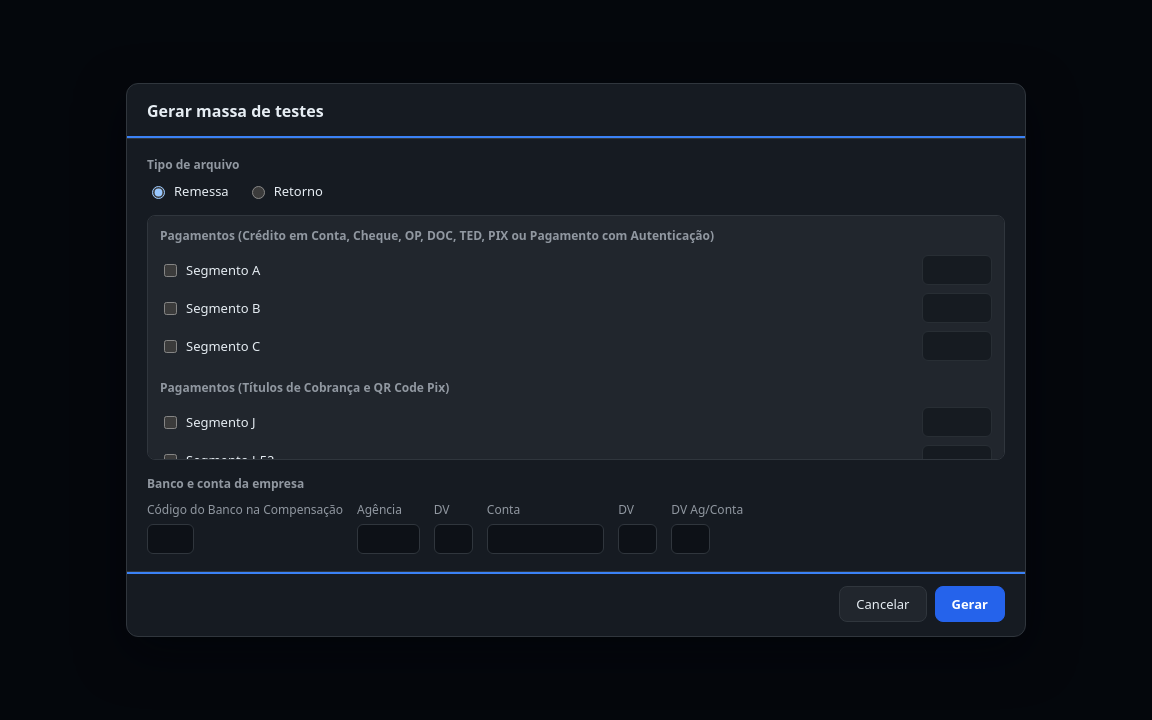
Test case: GeneratorDialog (US1) › quantidade 0 é inválida e desabilita Gerar
Click the checkbox with test id "generator-variant-segmento-a-pagamento" at [170, 270], box [164,264,177,277]
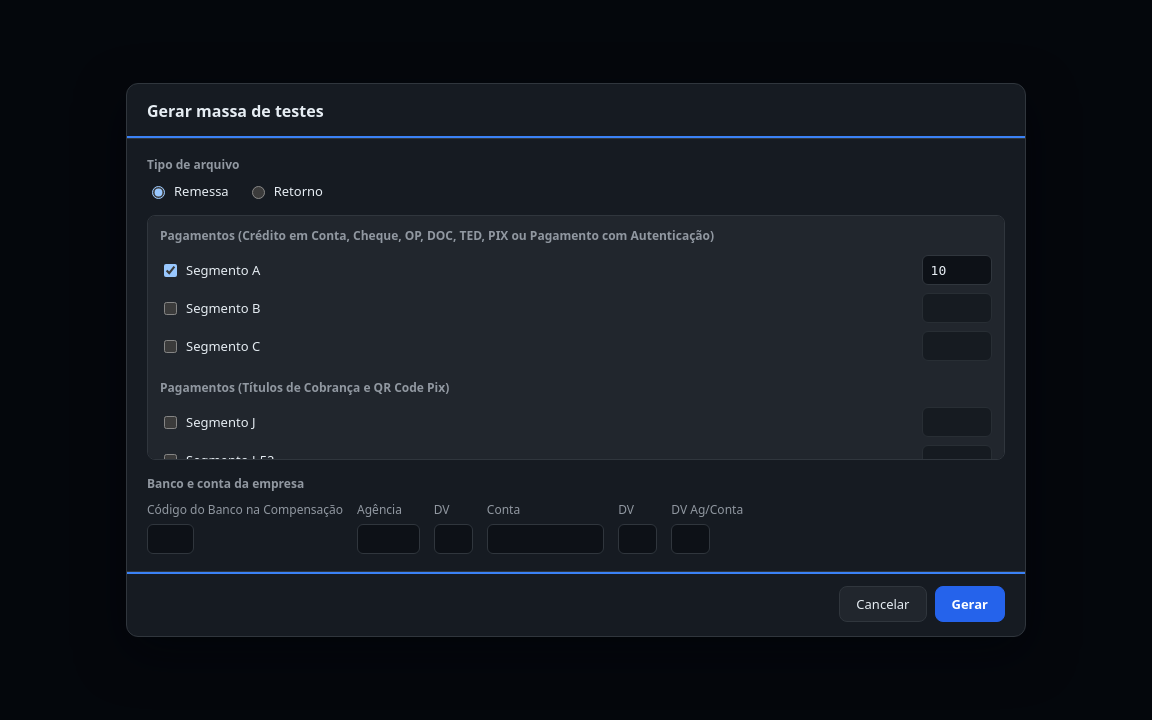
Replace the text in the field with test id "generator-qty-segmento-a-pagamento" with "0" at [957, 270], box [922,255,992,285]
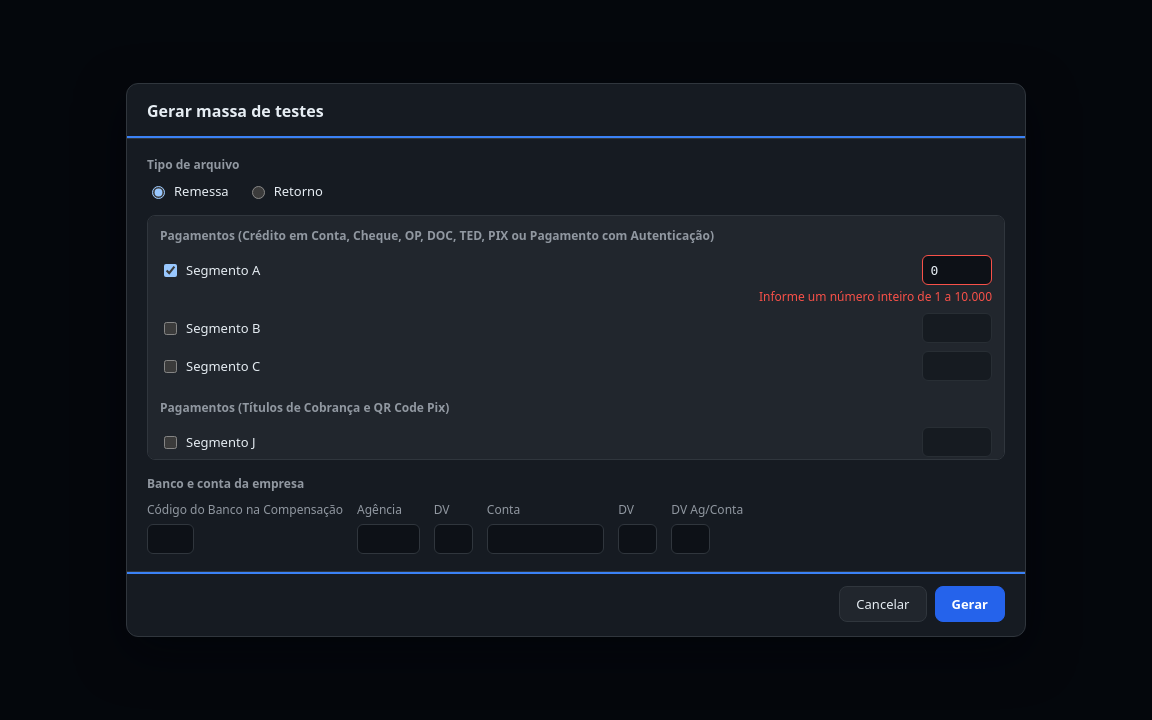
Expected: the button with test id "generator-confirm" is disabled, [934,586,1005,622]
Result: the text with test id "generator-qty-segmento-a-pagamento-error" reads "Informe um número inteiro de 1 a 10.000" at [759,288,992,305]
